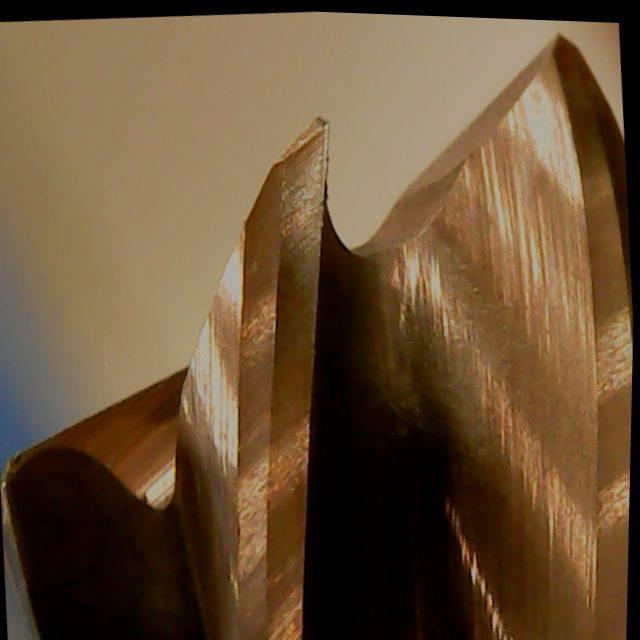Tool-wear-class-1: (246, 109, 350, 376)
